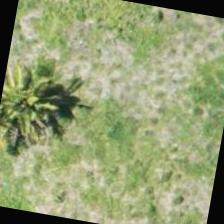Kelapa_Sawit: (0, 48, 76, 149)
